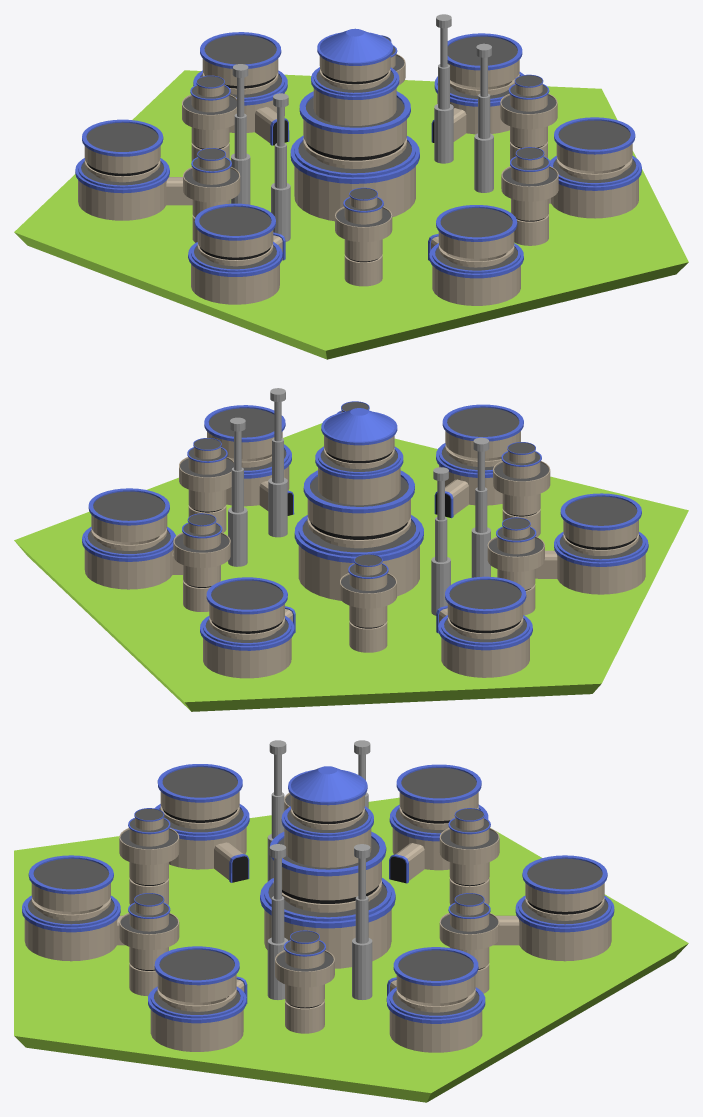
Rendered from VilleX_3.fbx.
3 views of the same model, one above another, from view 1: azimuth 30°, elevation 25°; view 2: azimuth 150°, elevation 25°; view 3: azimuth 270°, elevation 25° (orthographic). The views are drawn at different scales.
Parts seen in each view (by area): view 1: Cite_x; view 2: Cite_x; view 3: Cite_x.
Part boxes in pixels (x1=…): Cite_x: x1=14, y1=14, x2=688, y2=359; Cite_x: x1=14, y1=388, x2=688, y2=711; Cite_x: x1=14, y1=740, x2=688, y2=1102.
Size of the model in its own units: 111 by 32.25 by 105.
